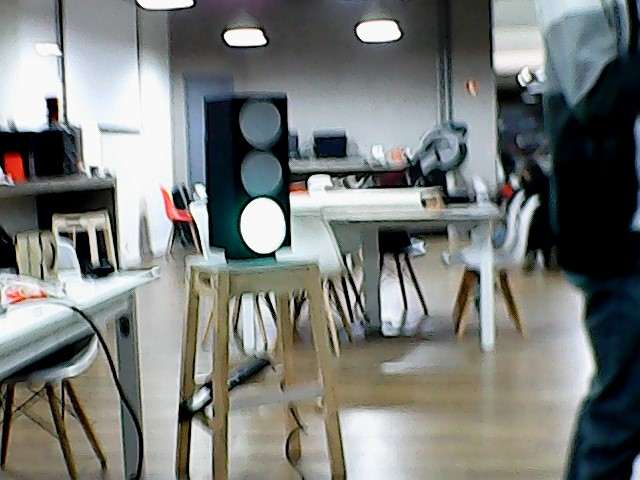verde: (201, 92, 296, 267)
